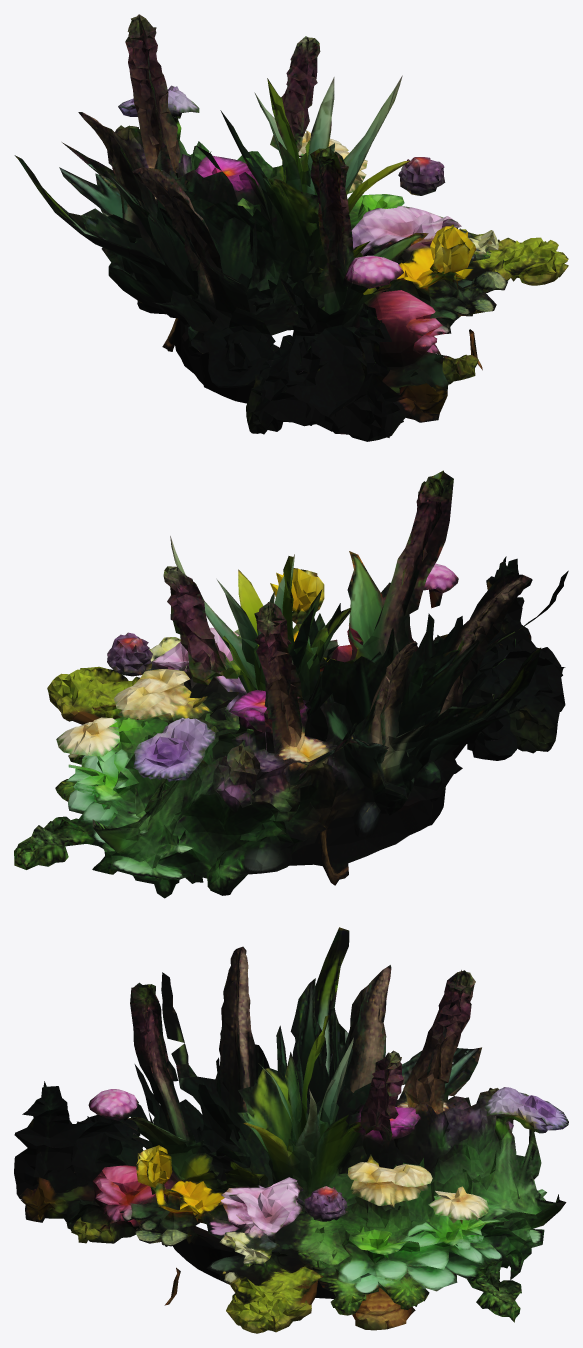
The model's file is wooden-planter-box-rustic.jpeg.glb.
The picture shows the model from 3 angles, top to bottom: view 1: azimuth 30°, elevation 25°; view 2: azimuth 150°, elevation 25°; view 3: azimuth 270°, elevation 25°; orthographic projection. The views are drawn at different scales.
Parts seen in each view (by area): view 1: world; view 2: world; view 3: world.
Boxes of the visible parts, x1,y1,x2,y2 form: world: (14,14,568,441); world: (14,470,568,898); world: (14,927,568,1333).
Bounding box in the file's own units: 0.9558 × 0.5513 × 0.9973.
Materials: 1 (1 with a texture image).
